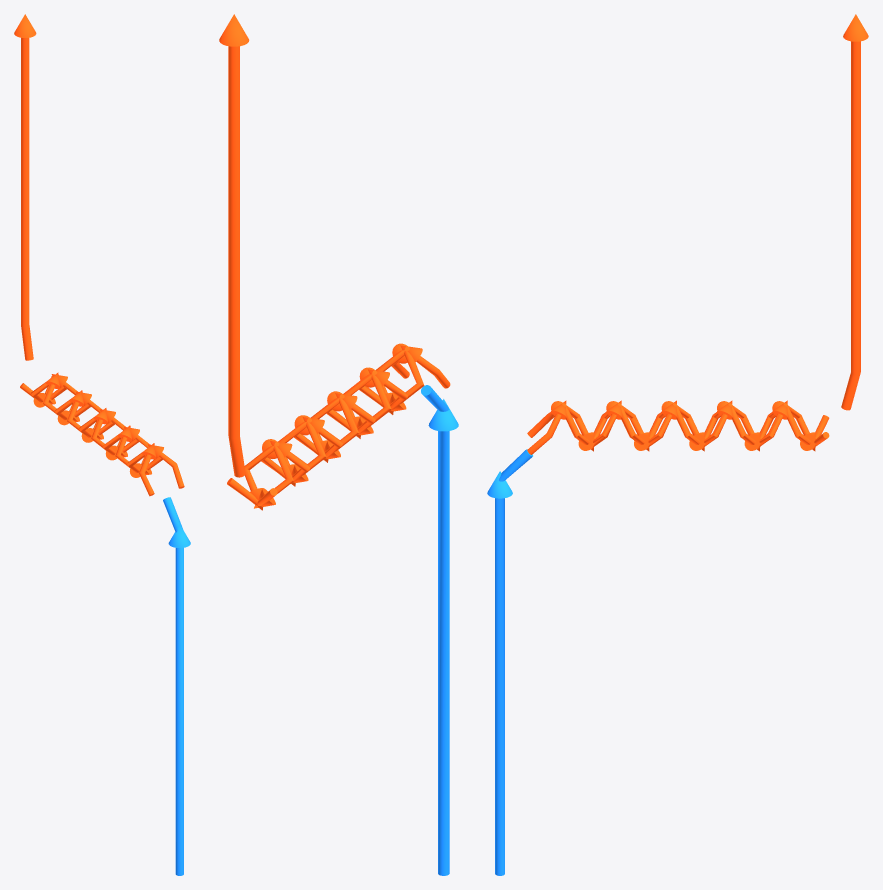
The model's file is three_screw_pump_flow.glb.
3 renders of one model, left to right at view 1: azimuth 30°, elevation 25°; view 2: azimuth 150°, elevation 25°; view 3: azimuth 270°, elevation 25°, orthographic. The views are drawn at different scales.
Visible parts, largest first — view 1: flow_in, flow_out, flow_axial1, flow_axial-1; view 2: flow_in, flow_out, flow_axial1, flow_axial-1; view 3: flow_in, flow_out, flow_axial-1, flow_axial1.
Boxes of the visible parts, box(x1,y1,x2,y2) form: flow_in: box(163, 497, 190, 875); flow_out: box(14, 14, 36, 360); flow_axial1: box(31, 374, 184, 488); flow_axial-1: box(20, 372, 162, 496); flow_in: box(421, 385, 458, 875); flow_out: box(219, 14, 249, 477); flow_axial1: box(227, 343, 424, 508); flow_axial-1: box(244, 345, 450, 510); flow_in: box(487, 449, 532, 875); flow_out: box(841, 14, 868, 410); flow_axial-1: box(527, 401, 829, 450); flow_axial1: box(527, 400, 829, 454).
Size of the model in its own units: 0.051 by 0.96 by 0.386.
